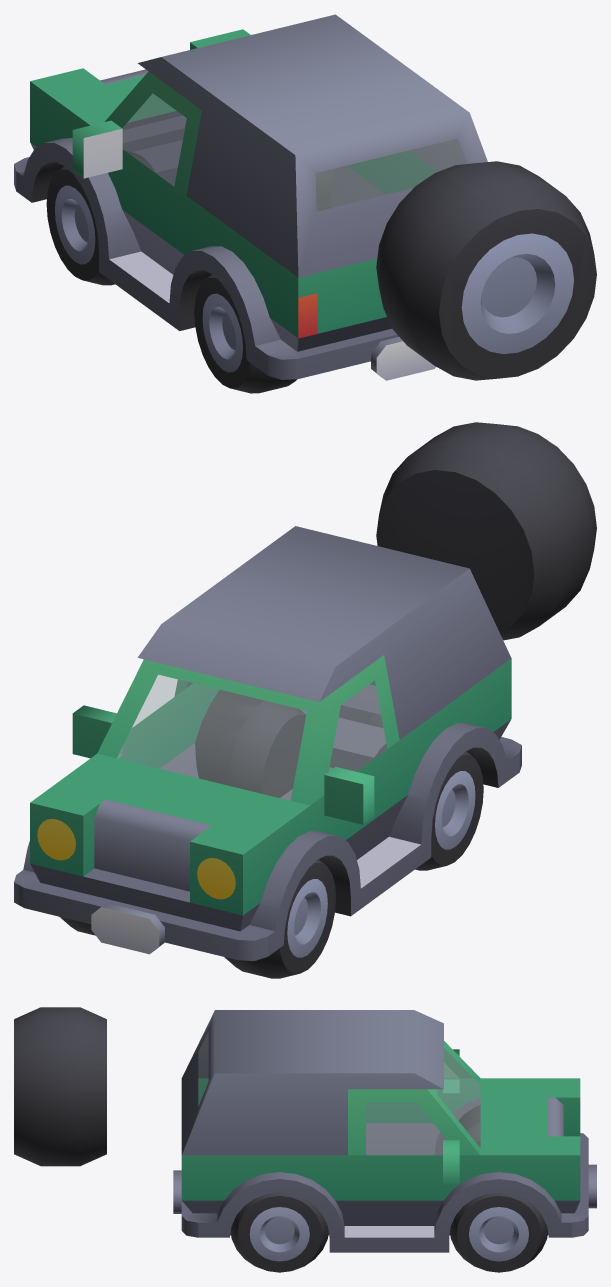
Rendered from suv.glb.
3 views of the same model, one above another, from view 1: azimuth 30°, elevation 25°; view 2: azimuth 150°, elevation 25°; view 3: azimuth 270°, elevation 25° (orthographic). The views are drawn at different scales.
Visible parts, largest first — view 1: body, wheel-back, wheel-back-left, wheel-front-left; view 2: body, wheel-back, wheel-back-right, wheel-front-left, wheel-back-left; view 3: body, wheel-back, wheel-front-right, wheel-back-right.
Part boxes in pixels (x1=…): body: x1=14, y1=14, x2=487, y2=380; wheel-back: x1=376, y1=161, x2=596, y2=380; wheel-back-left: x1=194, y1=274, x2=297, y2=393; wheel-front-left: x1=46, y1=150, x2=156, y2=285; body: x1=14, y1=526, x2=521, y2=960; wheel-back: x1=376, y1=422, x2=596, y2=640; wheel-back-right: x1=213, y1=696, x2=305, y2=797; wheel-front-left: x1=224, y1=859, x2=335, y2=978; wheel-back-left: x1=374, y1=744, x2=483, y2=870; body: x1=173, y1=1010, x2=596, y2=1252; wheel-back: x1=14, y1=1007, x2=106, y2=1166; wheel-front-right: x1=450, y1=1192, x2=547, y2=1272; wheel-back-right: x1=230, y1=1192, x2=328, y2=1272.
Bounding box in the file's own units: 2.4 × 2.37 × 5.62.
Materials: 2 (1 with a texture image).
